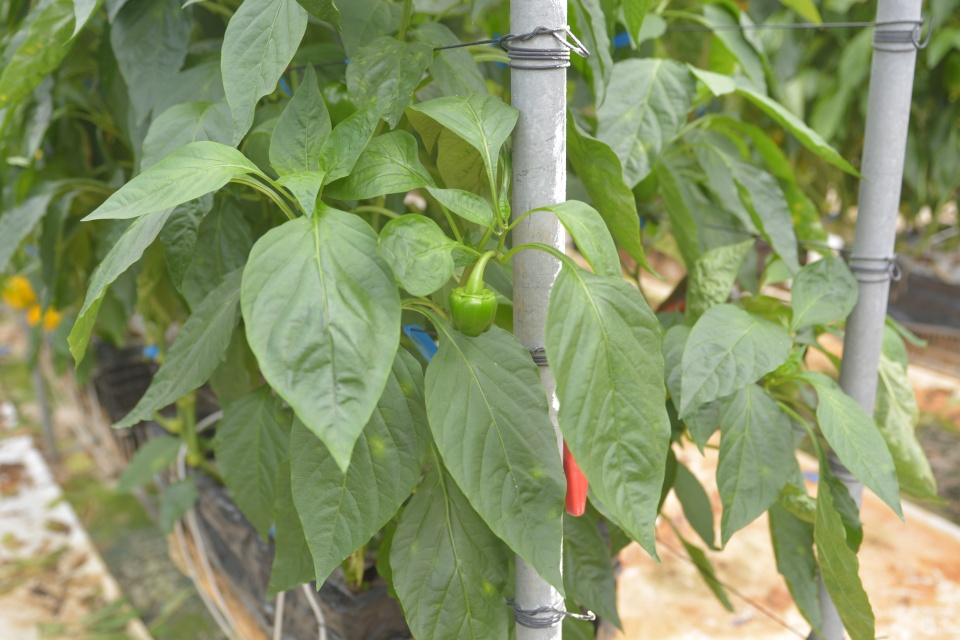fruit: (564, 434, 592, 519)
immature: (447, 280, 498, 339)
